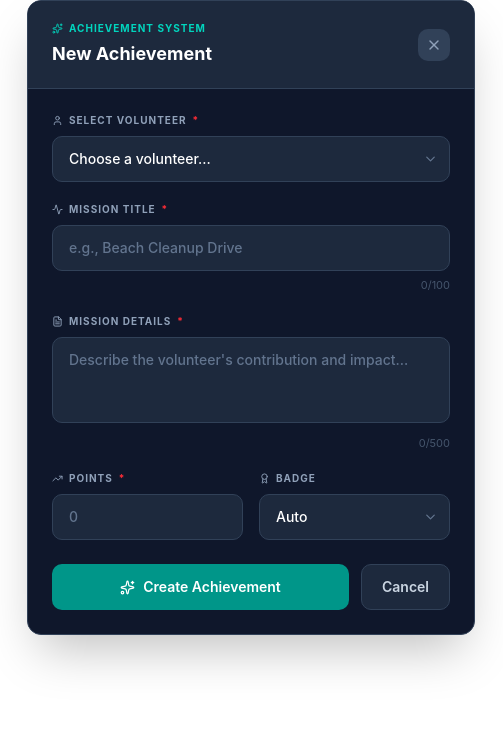
Test: AchievementForm Component Validation › validates minimum length for title and description
Type "Ab" into the field with placeholder "e.g., Beach Cleanup Drive" at (251, 248), box [52,225,450,271]
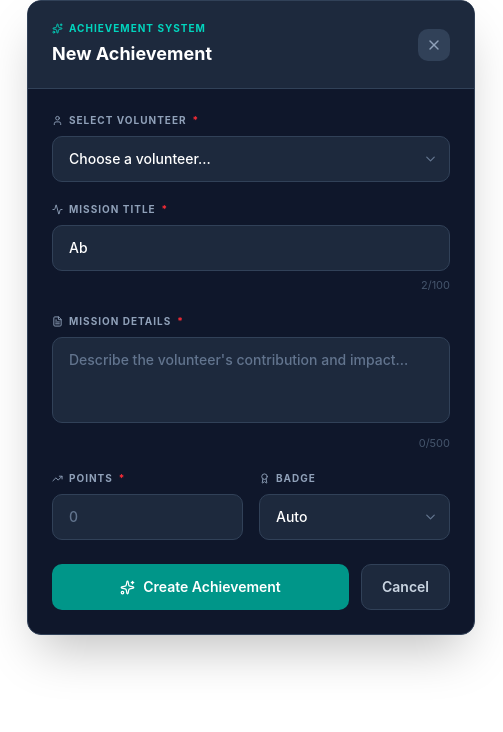
Type "Too short" into the text box with placeholder "Describe the volunteer's contribution and impact..." at (251, 380), box [52,336,450,422]
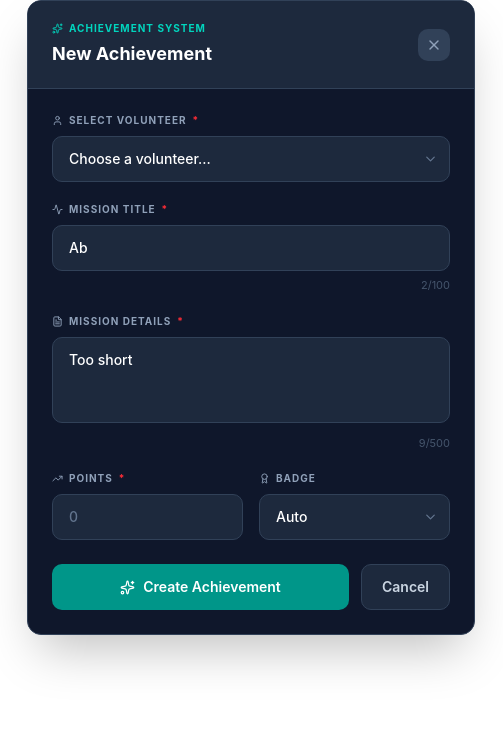
Click the button "Create Achievement" at (200, 587), box [52,564,349,610]
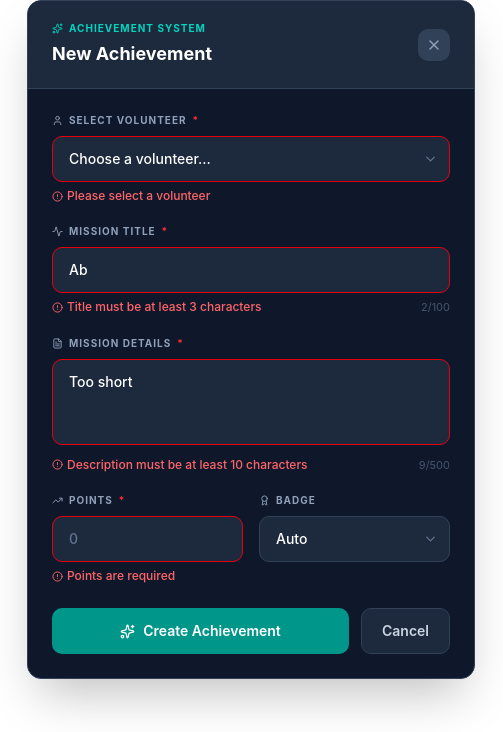
Expected: the text "Title must be at least 3 characters" is shown, [52,299,262,316]
Expected: the text "Description must be at least 10 characters" is shown, [52,456,308,473]
